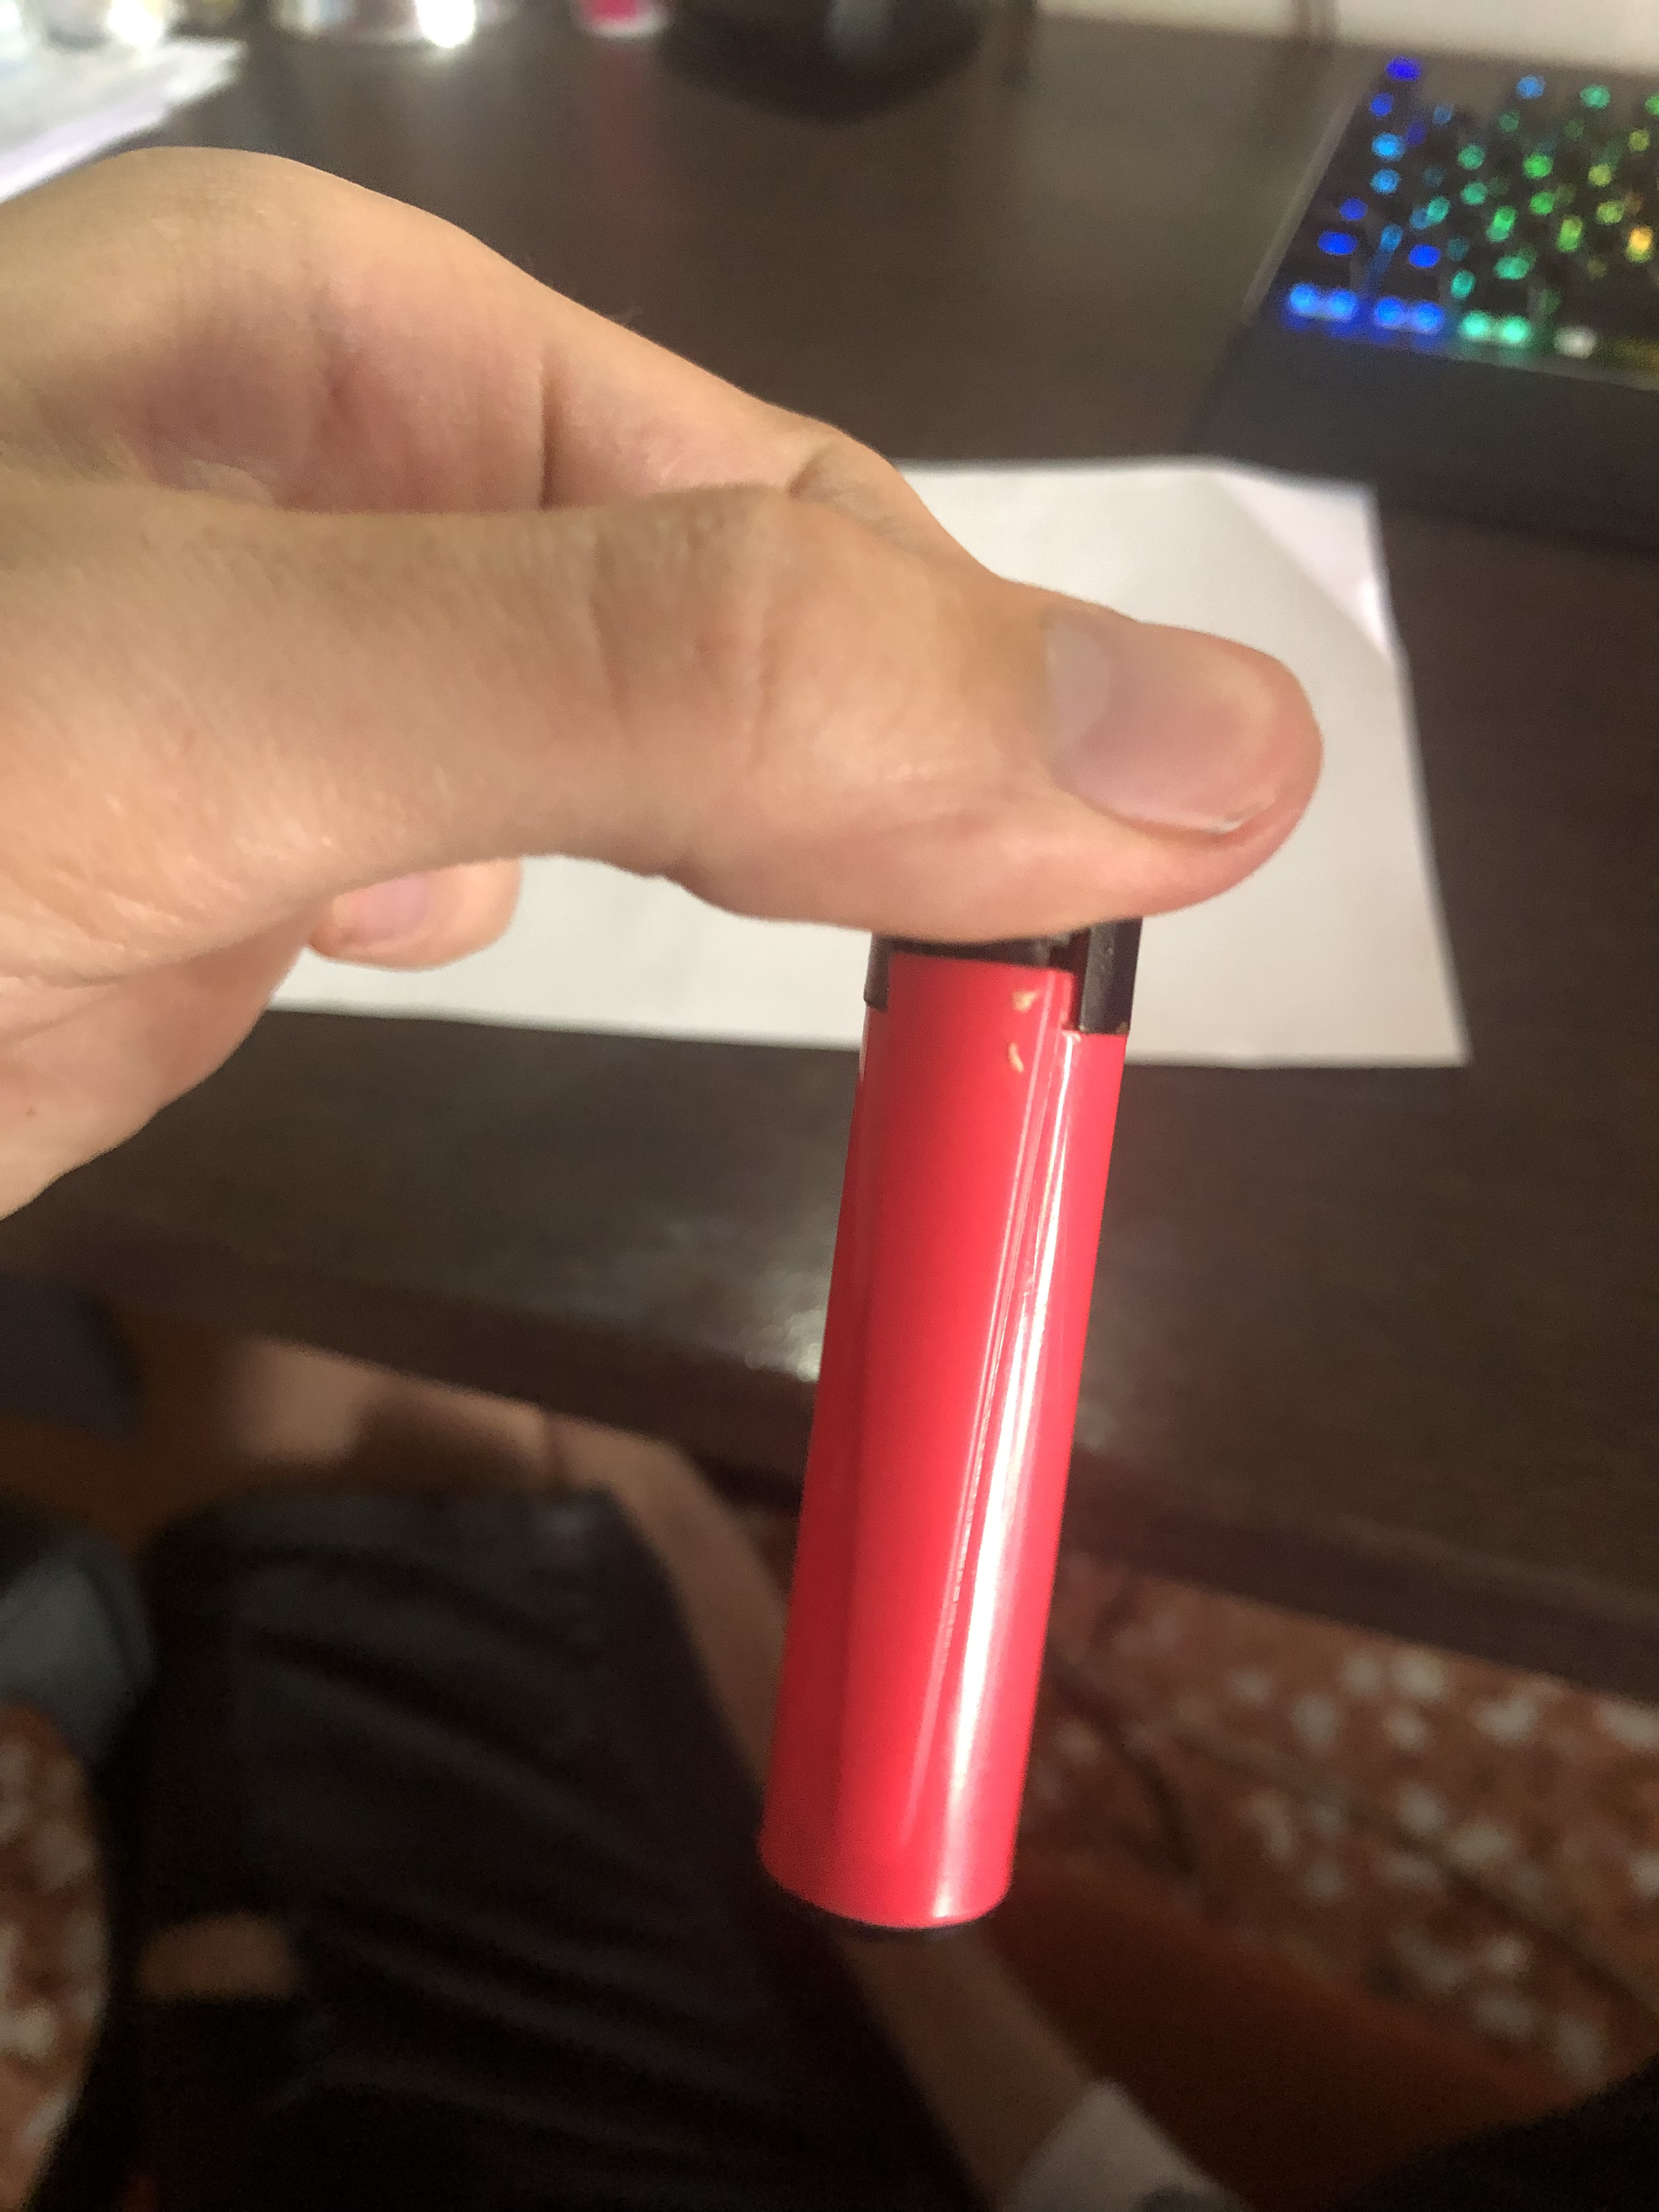Mechero: (744, 885, 1178, 1926)
